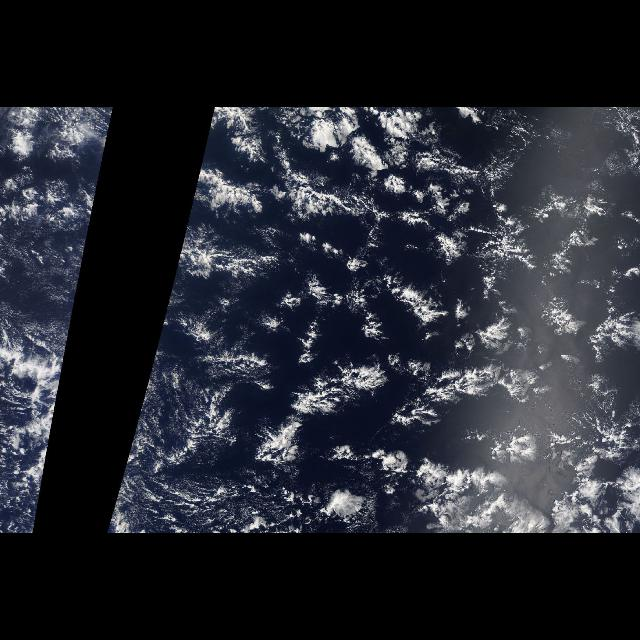Flower: (211, 109, 637, 519)
Gravel: (107, 364, 259, 522)
